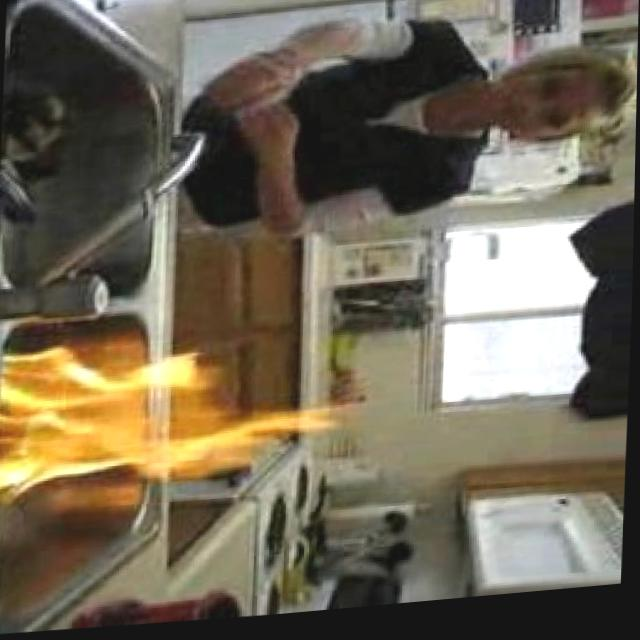helmet: (0, 322, 341, 502)
